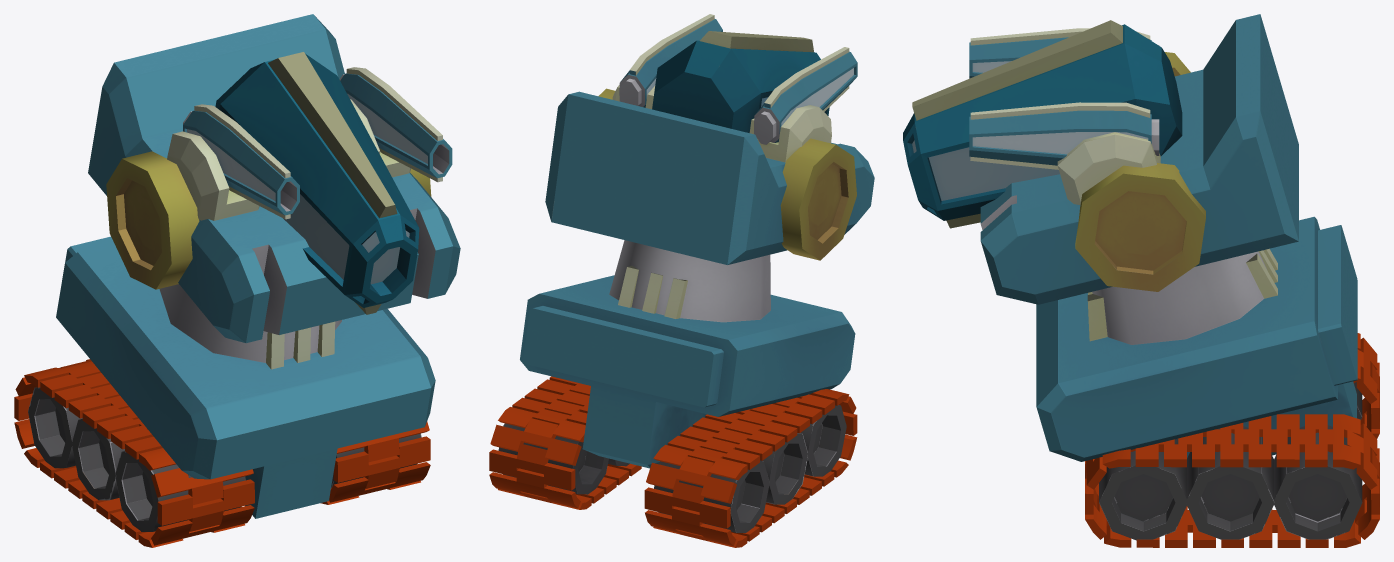
The model's file is player_move_1_upgrade10.obj.
The picture shows the model from 3 angles, left to right: view 1: azimuth 30°, elevation 25°; view 2: azimuth 150°, elevation 25°; view 3: azimuth 270°, elevation 25°; orthographic projection. The views are drawn at different scales.
Parts seen in each view (by area): view 1: Object004, Box038, Object012, Object011, Box042; view 2: Object004, Box038, Box042, Object011, Object012; view 3: Object004, Object011, Box042, Object012, Box038.
Part boxes in pixels (box(x1,y1,x2,y2)): Object004: box(56, 14, 460, 518); Box038: box(14, 359, 254, 547); Object012: box(183, 67, 452, 219); Object011: box(28, 387, 421, 531); Box042: box(320, 421, 430, 504); Object004: box(520, 31, 874, 468); Box038: box(644, 389, 857, 547); Box042: box(489, 376, 641, 509); Object011: box(498, 405, 846, 532); Object012: box(619, 14, 857, 144); Object004: box(903, 14, 1357, 461); Object011: box(1099, 382, 1362, 540); Box042: box(1085, 414, 1379, 547); Object012: box(969, 28, 1159, 169); Box038: box(1353, 333, 1379, 438).
Size of the model in its own units: 110 by 180 by 169.
Materials: 4 (2 with a texture image).
